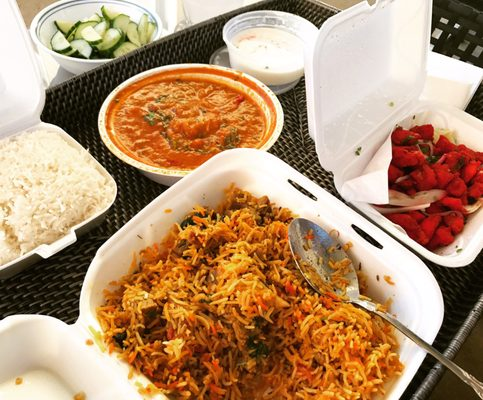burger: (287, 218, 483, 396)
pizza: (305, 1, 431, 191), (222, 11, 318, 94)
salad: (287, 218, 480, 396)
sushi: (76, 147, 474, 396), (316, 100, 483, 269), (98, 64, 284, 185), (29, 0, 163, 77)
